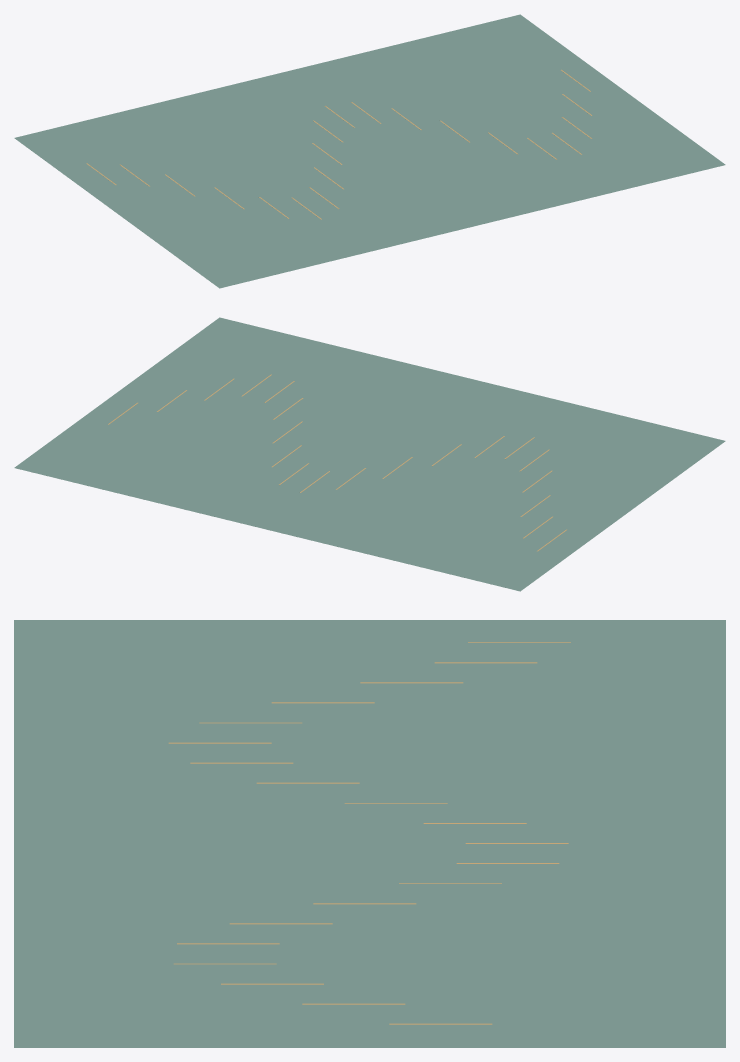
File: 245_L118_L8_LayerReference.glb
3 renders of one model, top to bottom at view 1: azimuth 30°, elevation 25°; view 2: azimuth 150°, elevation 25°; view 3: azimuth 270°, elevation 25°, orthographic. The views are drawn at different scales.
Parts seen in each view (by area): view 1: 0000__PSMAT__dielectric; view 2: 0000__PSMAT__dielectric; view 3: 0000__PSMAT__dielectric.
Boxes of the visible parts, left/top/right/bottom form: 0000__PSMAT__dielectric: left=14, top=14, right=725, bottom=288; 0000__PSMAT__dielectric: left=14, top=317, right=725, bottom=591; 0000__PSMAT__dielectric: left=14, top=620, right=725, bottom=1047.
Bounding box in the file's own units: 0.472 × 0.000529 × 0.332.
